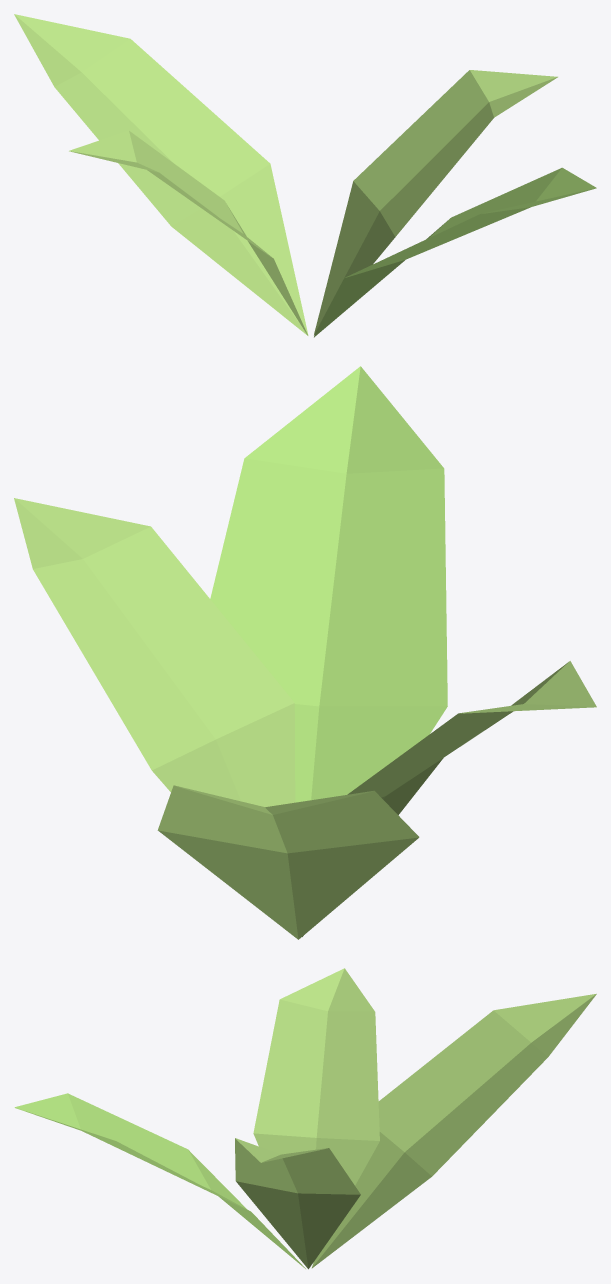
The model's file is fern2.fbx.
3 views of the same model, one above another, from view 1: azimuth 30°, elevation 25°; view 2: azimuth 150°, elevation 25°; view 3: azimuth 270°, elevation 25° (orthographic). The views are drawn at different scales.
Visible parts, largest first — view 1: Plant_k_TwoS_03.001, Plant_k_TwoS_03; view 2: Plant_k_TwoS_03, Plant_k_TwoS_03.001; view 3: Plant_k_TwoS_03.001, Plant_k_TwoS_03.
Boxes of the visible parts, left/top/right/bottom form: Plant_k_TwoS_03.001: left=14, top=14, right=594, bottom=336; Plant_k_TwoS_03: left=71, top=70, right=596, bottom=337; Plant_k_TwoS_03: left=14, top=366, right=596, bottom=938; Plant_k_TwoS_03.001: left=30, top=554, right=595, bottom=939; Plant_k_TwoS_03.001: left=16, top=968, right=596, bottom=1268; Plant_k_TwoS_03: left=14, top=968, right=406, bottom=1269.
Size of the model in its own units: 36.72 by 29 by 14.97.
Materials: 2 (2 with a texture image).
